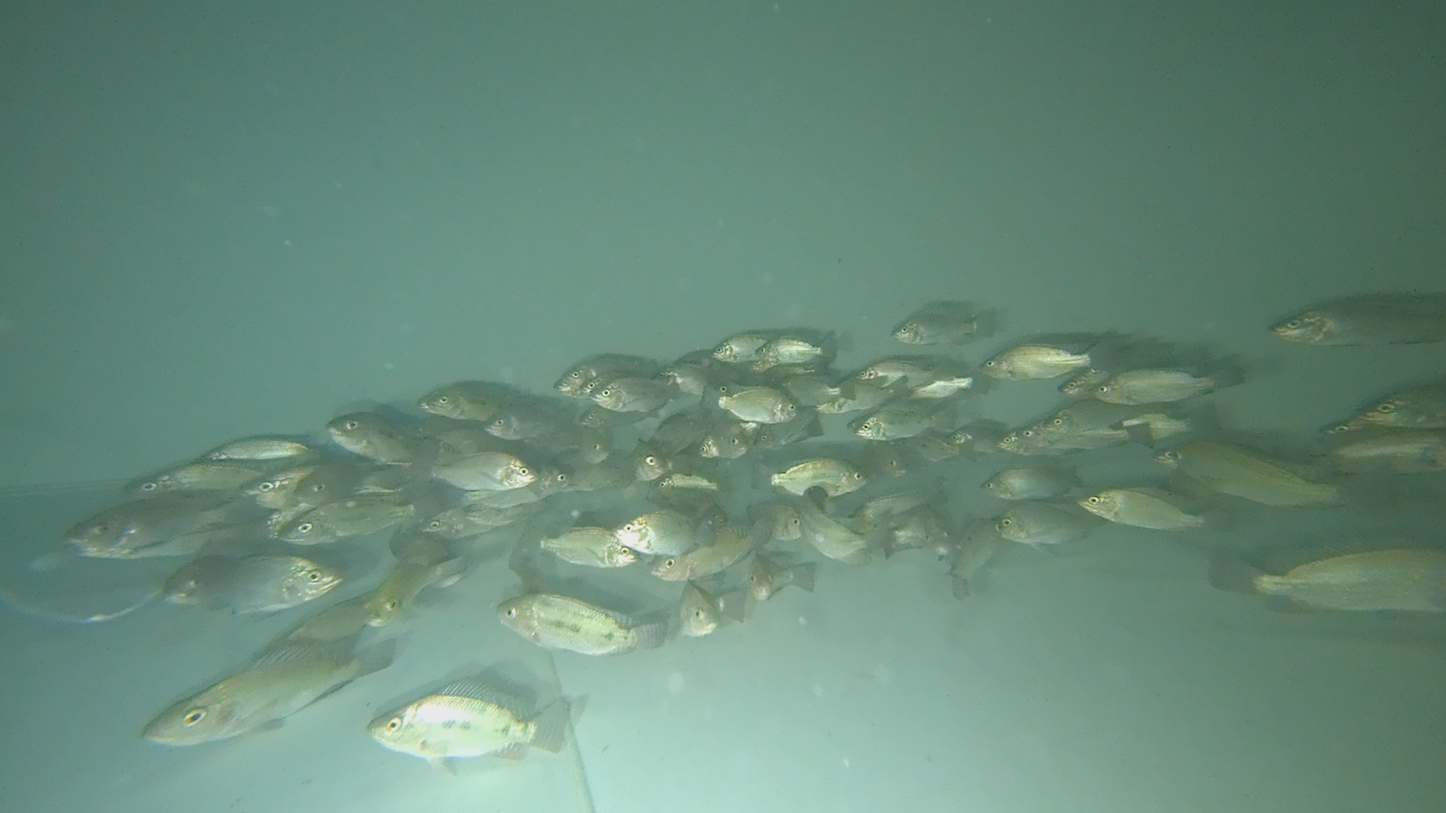fish: (407, 449, 537, 491), (978, 342, 1112, 380), (889, 309, 996, 344), (753, 335, 839, 365)
